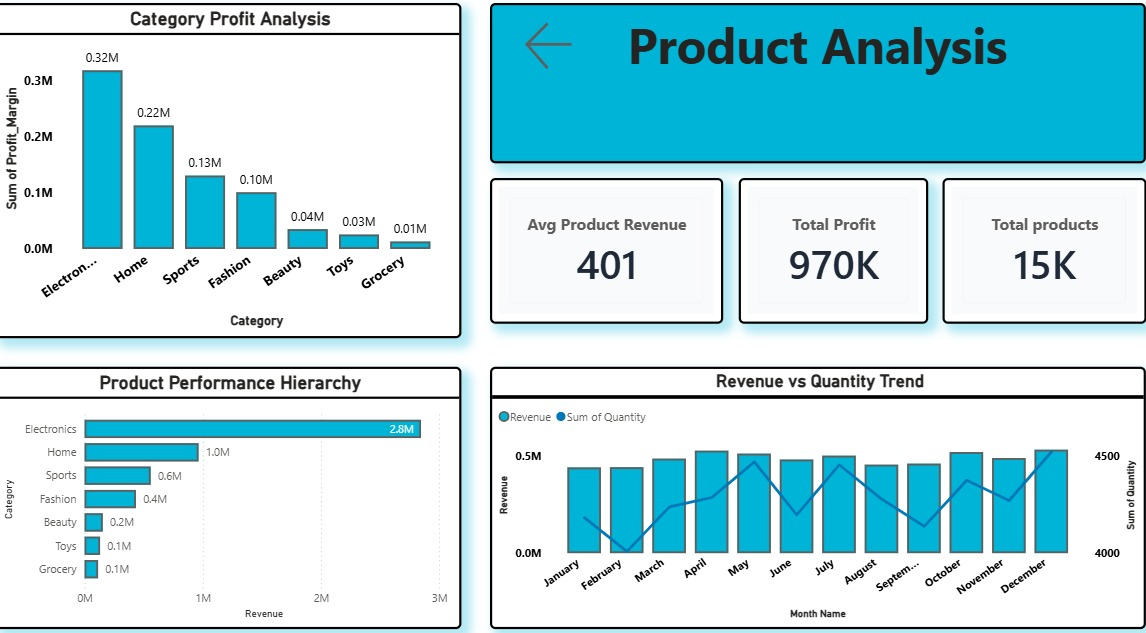

This screenshot's page, from the dashboard's own definition file:
{"tool":"powerbi","page":{"name":"Page 3","canvas":[1280,720],"ordinal":2},"visuals":[{"type":"clusteredBarChart","title":"Product Performance Hierarchy","fields":{"Category":["Dim_Product.Category Hierarchy.Category","Dim_Product.Category Hierarchy.Product_Id"],"Y":["Fact_Sales.Revenue"]},"box":[0,416,512,288],"z":3},{"type":"clusteredColumnChart","title":"Category Profit Analysis","fields":{"Category":["Dim_Product.Category"],"Y":["Sum(Fact_Sales.Profit_Margin)"]},"box":[0,16,512,368],"z":4},{"type":"lineClusteredColumnComboChart","title":"Revenue vs Quantity Trend","fields":{"Category":["Dim_Date.Month Name"],"Y":["Fact_Sales.Revenue"],"Y2":["Sum(Fact_Sales.Quantity)"]},"box":[544,416,720,288],"z":5},{"type":"cardVisual","fields":{"Data":["Dim_Product.Total products"]},"box":[1040,208,224,160],"z":6},{"type":"cardVisual","fields":{"Data":["Fact_Sales.Total Profit"]},"box":[816,208,208,160],"z":9},{"type":"cardVisual","fields":{"Data":["Fact_Sales.Avg Product Revenue"]},"box":[544,208,256,160],"z":10},{"type":"textbox","box":[544,16,720,176],"z":11},{"type":"actionButton","box":[576,32,96,64],"z":12}]}

Visuals, with their boxes in screenshot pixels (x1, y1, x2, y2), scaled from the page's 1280x720 canvas onto the 1146x633 screenshot:
"Product Performance Hierarchy" clusteredBarChart: (left=0, top=366, right=458, bottom=619)
"Category Profit Analysis" clusteredColumnChart: (left=0, top=14, right=458, bottom=338)
"Revenue vs Quantity Trend" lineClusteredColumnComboChart: (left=487, top=366, right=1132, bottom=619)
cardVisual - Dim_Product.Total products: (left=931, top=183, right=1132, bottom=324)
cardVisual - Fact_Sales.Total Profit: (left=731, top=183, right=917, bottom=324)
cardVisual - Fact_Sales.Avg Product Revenue: (left=487, top=183, right=716, bottom=324)
textbox: (left=487, top=14, right=1132, bottom=169)
actionButton: (left=516, top=28, right=602, bottom=84)
